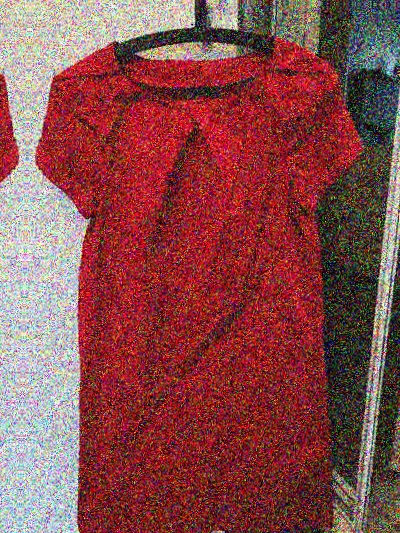Dress: (22, 21, 375, 533), (0, 14, 27, 533)
